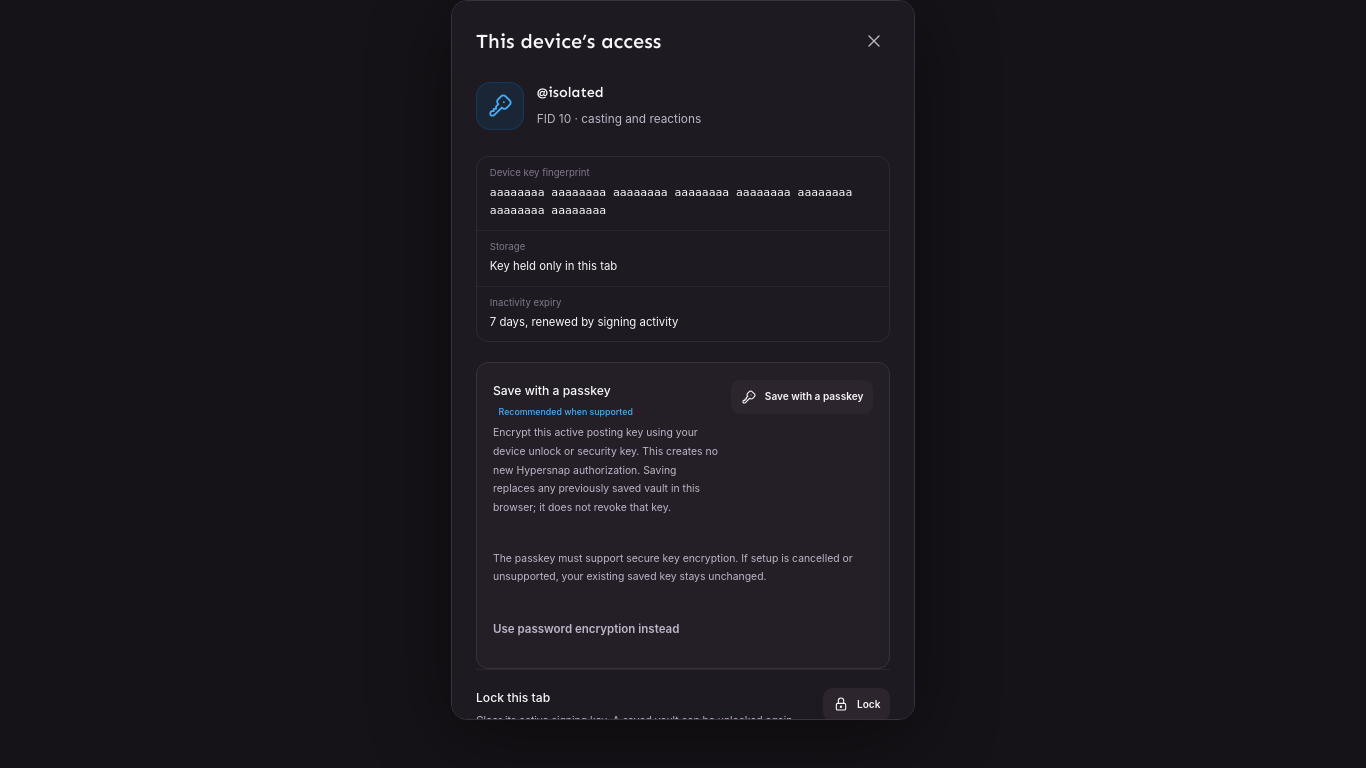
Test: explicit passkey device storage UI › does not let an earlier vault lookup overwrite a successful passkey migration
Step 1. Click the button "Save with a passkey" → (802, 397), box [731, 380, 873, 414]
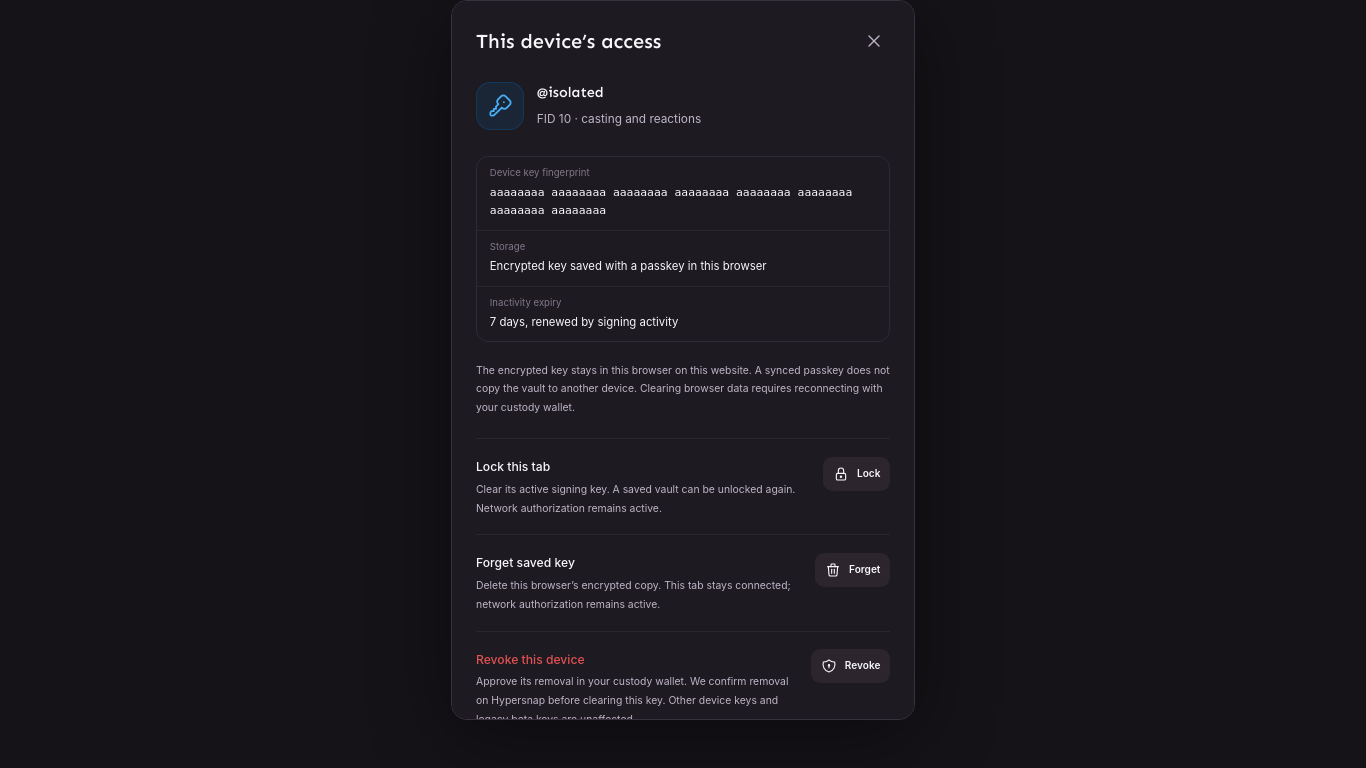
Expected: the text "Encrypted key saved with a passkey" is shown, [490, 259, 767, 273]
